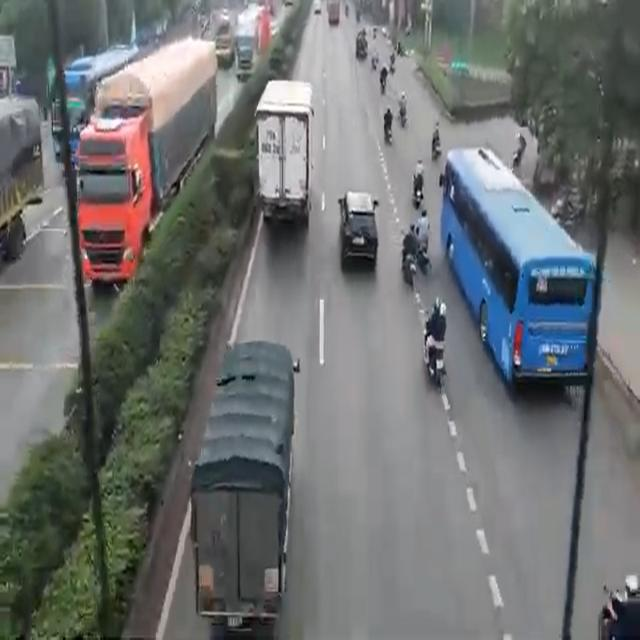bus: (442, 149, 595, 395)
car: (342, 186, 374, 278)
motorbike: (420, 305, 446, 382), (412, 210, 432, 270), (403, 228, 417, 295), (411, 159, 424, 200), (430, 123, 443, 164)
truck: (82, 37, 214, 296), (194, 342, 290, 632), (254, 70, 310, 232)
